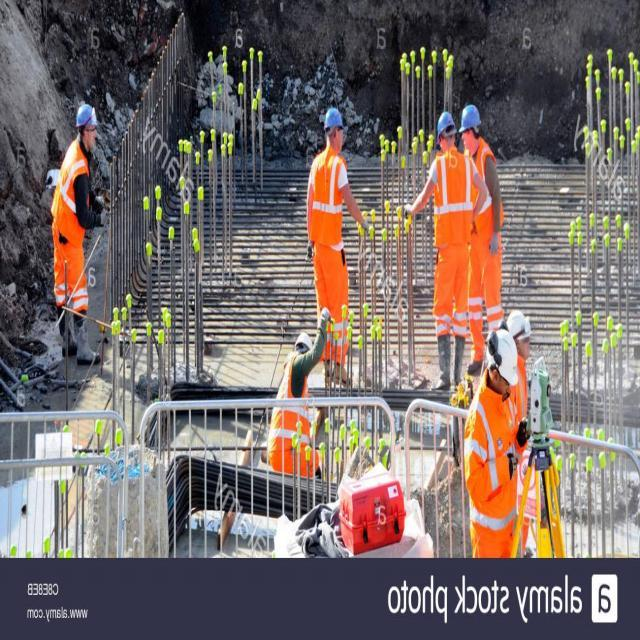reflective_jacket: (464, 389, 518, 553), (307, 149, 348, 253), (268, 354, 312, 449), (433, 149, 471, 248), (55, 142, 90, 247)
safety_helmet: (486, 324, 519, 384), (459, 100, 481, 134), (75, 99, 97, 130), (436, 106, 456, 138), (323, 104, 344, 130), (293, 328, 312, 351)
